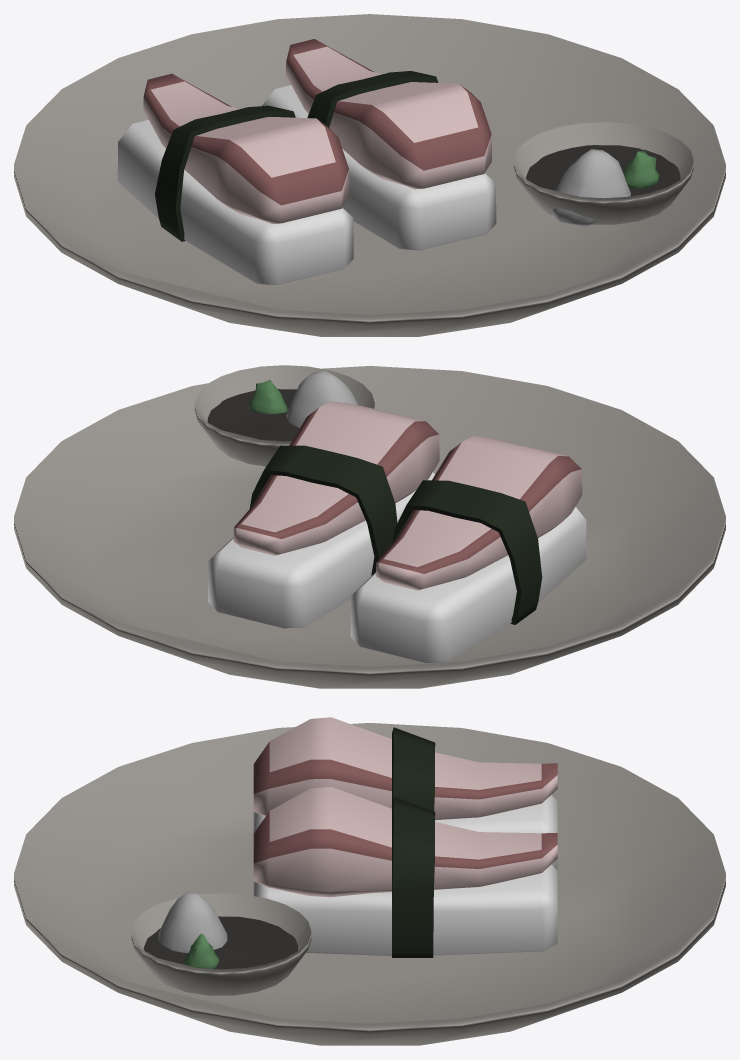
The model's file is ocotopus nigiri plate.fbx.
The picture shows the model from 3 angles, top to bottom: view 1: azimuth 30°, elevation 25°; view 2: azimuth 150°, elevation 25°; view 3: azimuth 270°, elevation 25°; orthographic projection.
Visible parts, largest first — view 1: Octopus_nigiri_plate; view 2: Octopus_nigiri_plate; view 3: Octopus_nigiri_plate.
Part boxes in pixels (x1,y1,x2,y2): Octopus_nigiri_plate: (14, 14, 725, 336); Octopus_nigiri_plate: (14, 365, 725, 688); Octopus_nigiri_plate: (14, 717, 725, 1045).
Bounding box in the file's own units: 62.2 × 12.86 × 62.2.
